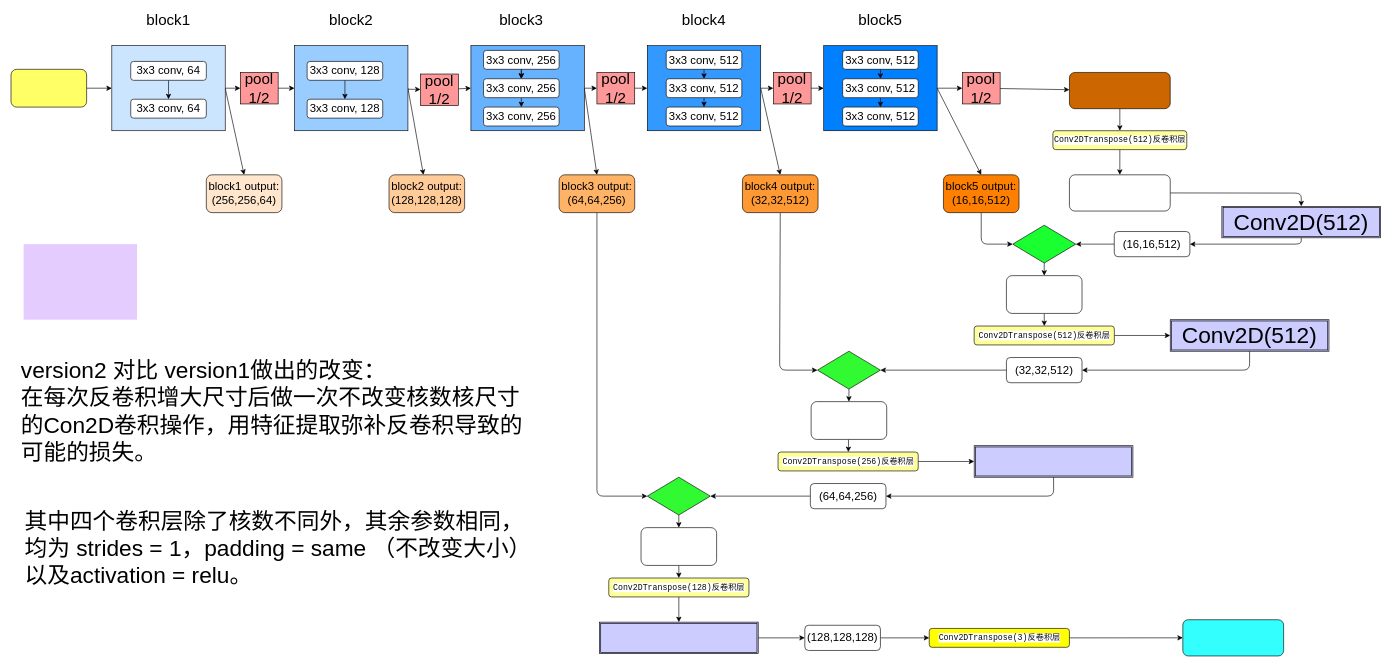
This 1392x667 diagram has some shape labels left out. The shapes that lost their labels are listed below. From the top down, each one's centre as x and y in pixels, then its label:
At (x=48, y=88): "input: (256,256,3)".
At (x=1119, y=90): "block5_pool output: (8,8,512)".
At (x=1119, y=192): "block5_pool output: (16,16,512)".
At (x=1044, y=244): "Add1".
At (x=80, y=281): "version2".
At (x=1044, y=294): "Add1 output: (16,16,512)".
At (x=848, y=370): "Add2".
At (x=848, y=420): "Add2 output: (32,32,512)".
At (x=1053, y=461): "Conv2D(256)".
At (x=678, y=496): "Add3".
At (x=678, y=546): "Add3 output: (64,64,256)".
At (x=678, y=637): "Conv2D(128)".
At (x=1233, y=637): "output: (256,256,3)".
